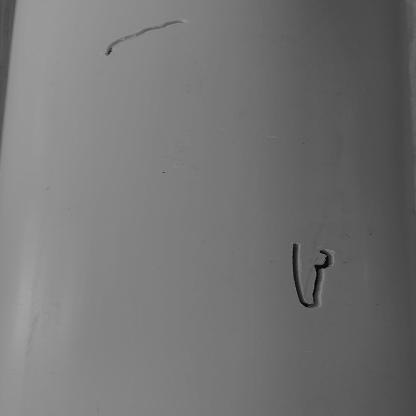fengxi: (288, 240, 333, 312), (102, 20, 189, 56)
